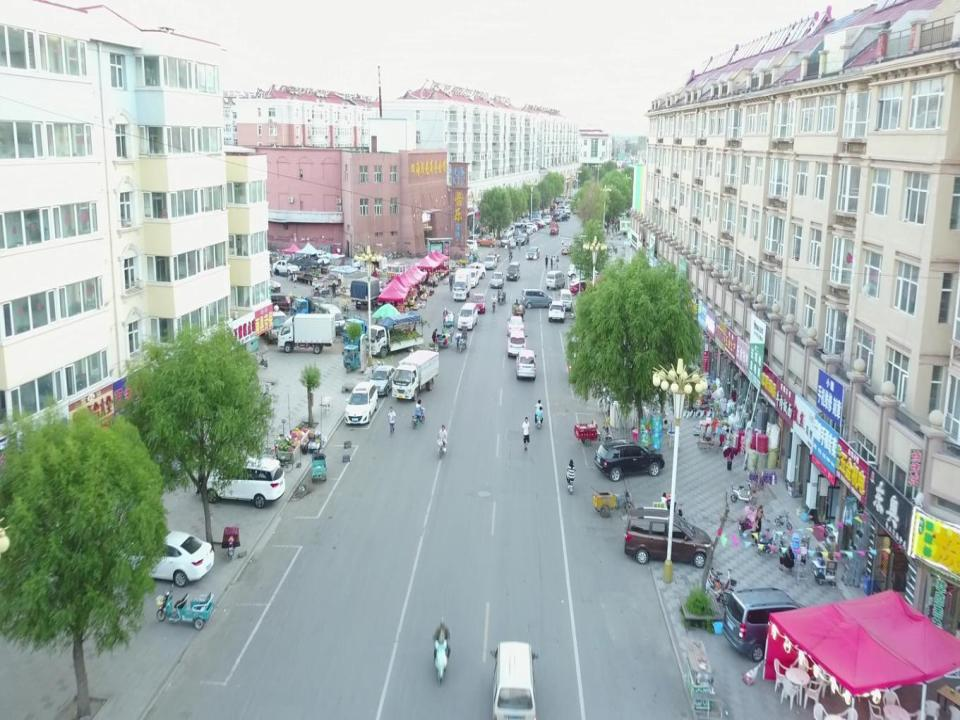car: (720, 584, 814, 662), (625, 507, 713, 570), (116, 533, 215, 585), (200, 458, 286, 507), (489, 638, 537, 720), (593, 440, 667, 482), (343, 380, 377, 426), (366, 364, 397, 396), (318, 301, 344, 334), (514, 349, 536, 382), (520, 288, 554, 309), (506, 329, 526, 358), (458, 302, 478, 330), (268, 292, 292, 310), (271, 260, 299, 275), (548, 299, 566, 321), (570, 280, 594, 295), (507, 314, 524, 335), (476, 232, 497, 248), (506, 262, 520, 282), (472, 293, 486, 313), (466, 266, 478, 289), (468, 262, 485, 278), (490, 271, 504, 289), (485, 254, 498, 270), (465, 237, 478, 251), (530, 216, 544, 229), (514, 234, 530, 245), (527, 245, 539, 258), (526, 220, 542, 229), (560, 242, 570, 255), (521, 225, 537, 232)
truck: (364, 314, 425, 358), (274, 313, 336, 356), (391, 347, 440, 401), (341, 316, 398, 348), (350, 278, 386, 310), (290, 296, 326, 320), (266, 306, 288, 343), (452, 266, 472, 300), (505, 222, 526, 235), (548, 221, 560, 234)
van: (546, 269, 565, 288), (559, 288, 572, 312), (501, 231, 513, 246)
